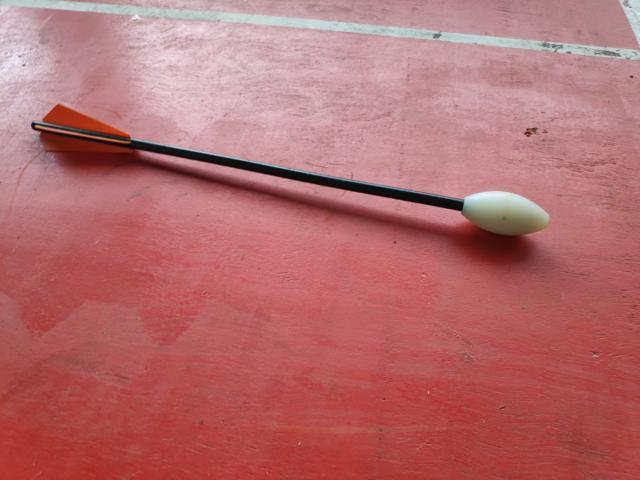Head: (457, 190, 551, 237)
Tail: (29, 97, 134, 154)
